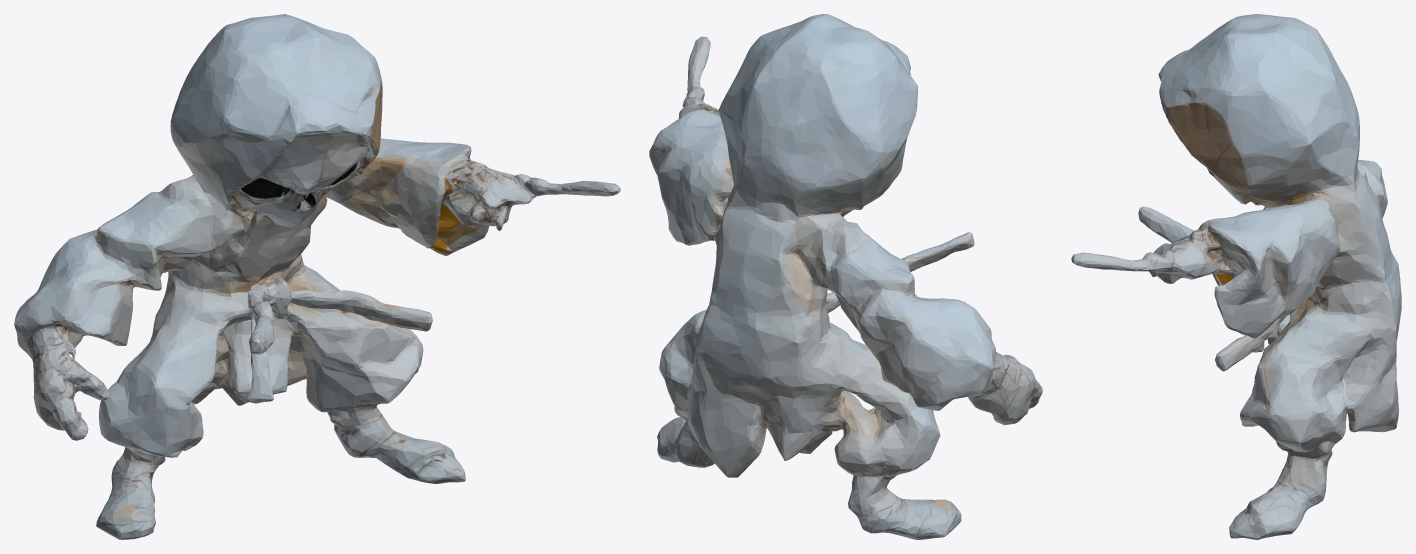
The model's file is Ninja.Skeleton.glb.
3 renders of one model, left to right at view 1: azimuth 30°, elevation 25°; view 2: azimuth 150°, elevation 25°; view 3: azimuth 270°, elevation 25°, orthographic. The views are drawn at different scales.
Visible parts, largest first — view 1: textured_mesh.obj; view 2: textured_mesh.obj; view 3: textured_mesh.obj.
Boxes of the visible parts, box(x1,y1,x2,y2) form: textured_mesh.obj: box(14, 14, 620, 539); textured_mesh.obj: box(649, 14, 1042, 539); textured_mesh.obj: box(1071, 14, 1401, 539).
Bounding box in the file's own units: 1.99 × 1.97 × 1.34.
1 material, 1 textured.
